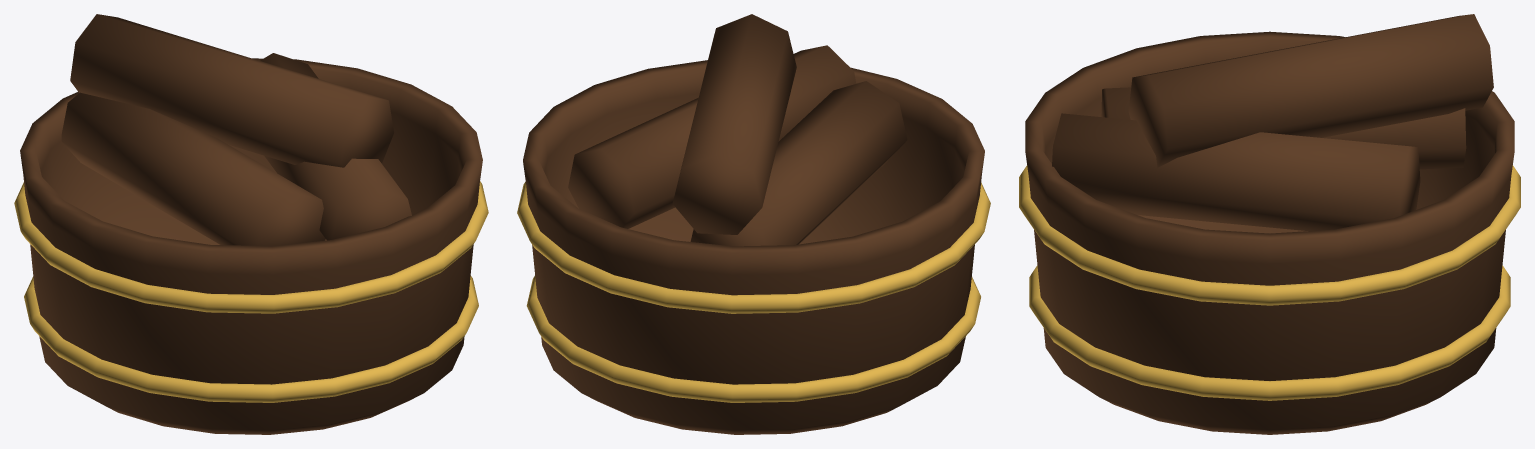
File: log-basket.glb
3 views of the same model, side by side, from view 1: azimuth 30°, elevation 25°; view 2: azimuth 150°, elevation 25°; view 3: azimuth 270°, elevation 25° (orthographic). The views are drawn at different scales.
Visible parts, largest first — view 1: LogBasket; view 2: LogBasket; view 3: LogBasket.
Boxes of the visible parts, x1=… form: LogBasket: x1=14, y1=14, x2=488, y2=434; LogBasket: x1=517, y1=14, x2=990, y2=434; LogBasket: x1=1019, y1=14, x2=1520, y2=434.
Bounding box in the file's own units: 0.738 × 0.487 × 0.7305.
